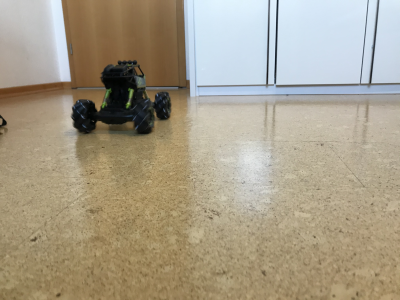remote control car: (70, 58, 174, 136)
